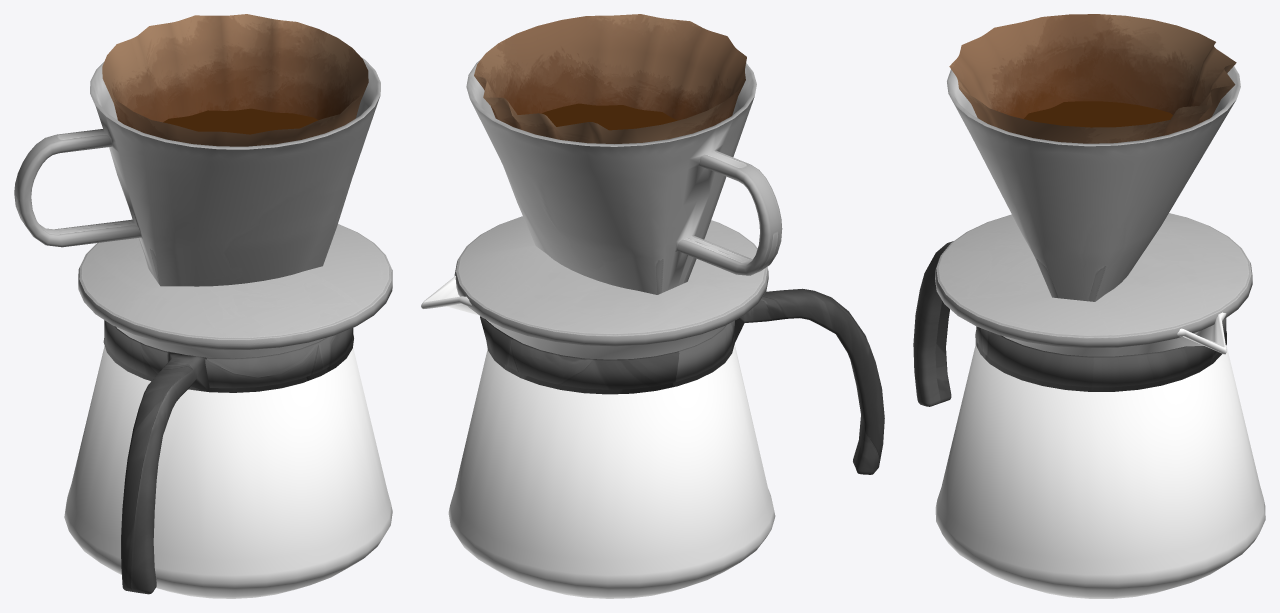
File: handdrip.glb
3 views of the same model, side by side, from view 1: azimuth 30°, elevation 25°; view 2: azimuth 150°, elevation 25°; view 3: azimuth 270°, elevation 25° (orthographic).
Visible parts, largest first — view 1: handdrip2.008; view 2: handdrip2.008; view 3: handdrip2.008.
Boxes of the visible parts, <box> form: handdrip2.008: <box>14,14,392,598</box>; handdrip2.008: <box>421,14,884,598</box>; handdrip2.008: <box>913,14,1265,598</box>.
Bounding box in the file's own units: 0.1712 × 0.2381 × 0.1561.
Materials: 6 (5 with a texture image).
